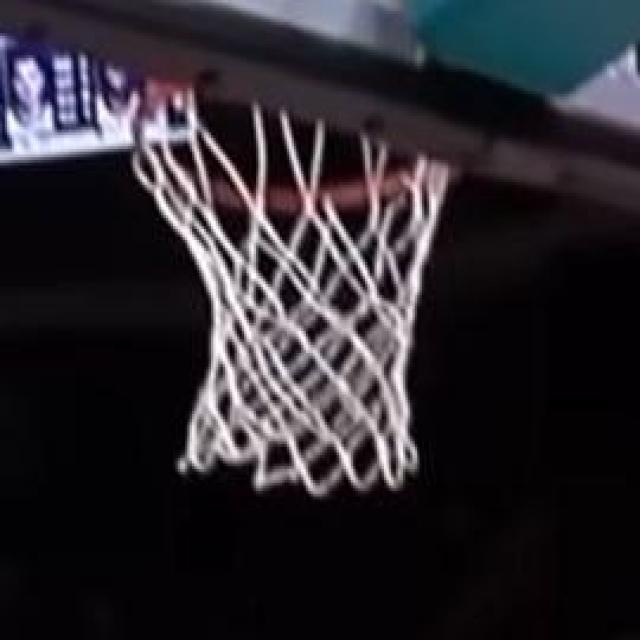hoop: (107, 74, 464, 500)
